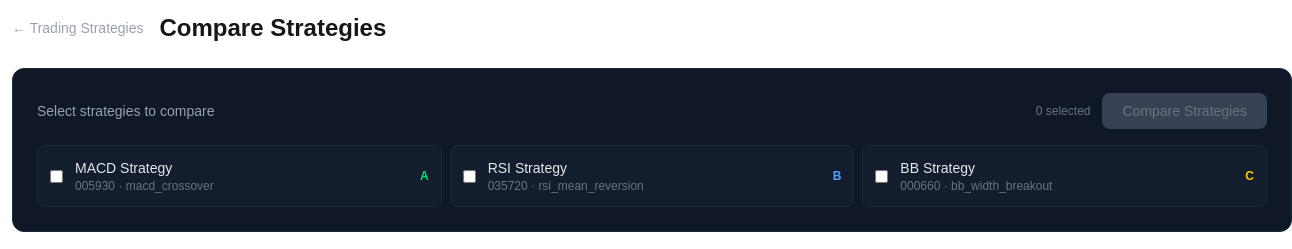
it: StrategyComparePage › disables compare button when fewer than 2 strategies selected
Check: the text "MACD Strategy" is shown, box [75,160,172,176]
Check: the button "Compare Strategies" is disabled, box [1102,93,1267,129]
Note: Select one — still disabled
Click the checkbox labelled "MACD Strategy 005930 · macd_crossover A".
click(56, 176)  # box [50,170,63,182]
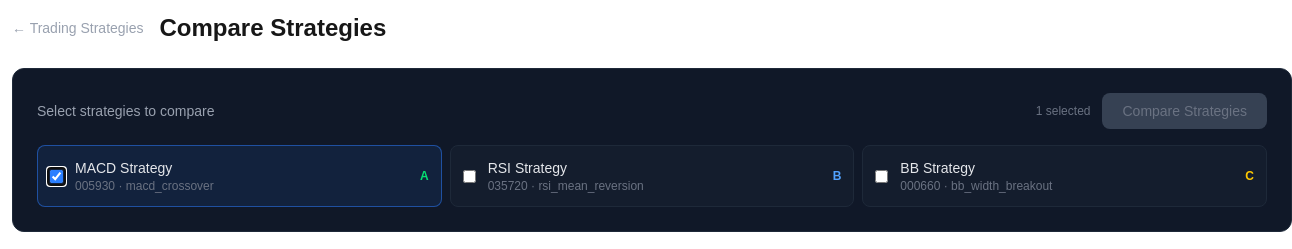
Check: the button "Compare Strategies" is disabled, box [1102,93,1267,129]
Note: Select second — enabled
Click the checkbox labelled "RSI Strategy 035720 · rsi_mean_reversion B".
click(469, 176)  # box [463,170,476,182]
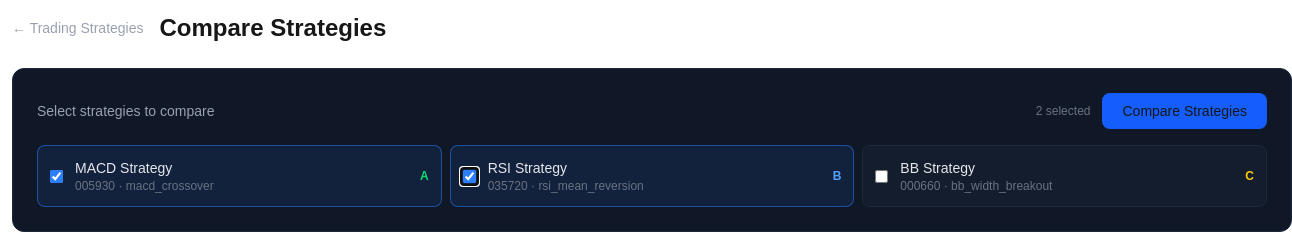
Check: the button "Compare Strategies" is enabled, box [1102,93,1267,129]
